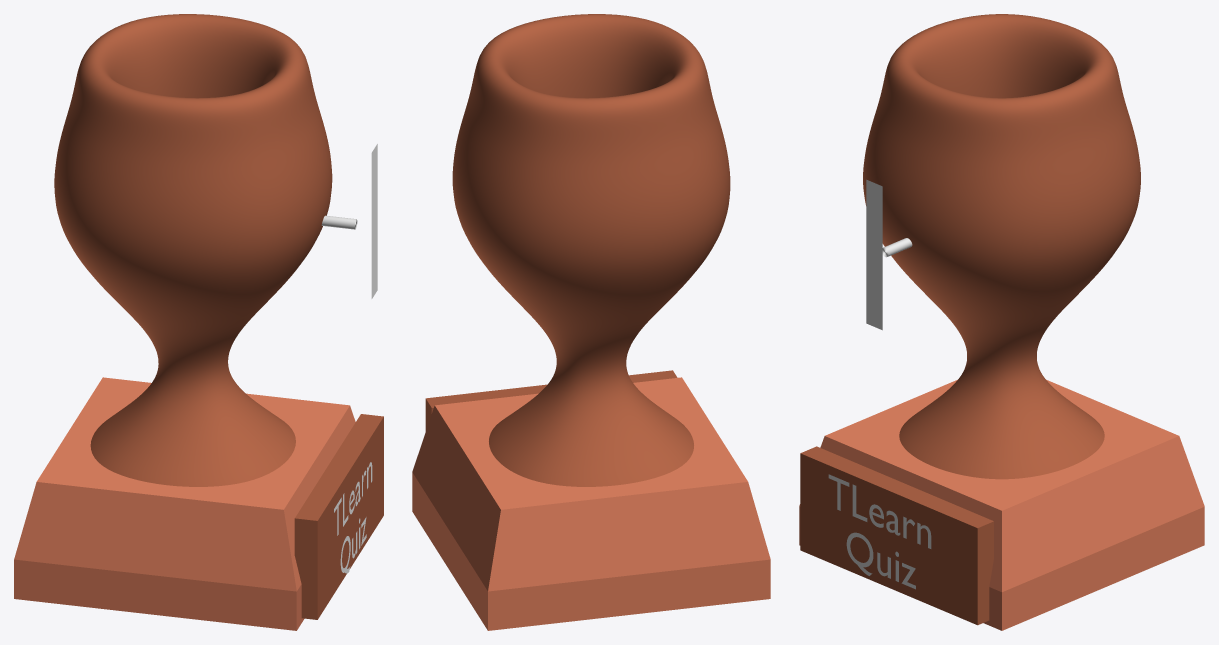
File: cup1.gltf
3 renders of one model, left to right at view 1: azimuth 30°, elevation 25°; view 2: azimuth 150°, elevation 25°; view 3: azimuth 270°, elevation 25°, orthographic. The views are drawn at different scales.
Visible parts, largest first — view 1: Cube, Cube.001, Cube.002, Text, Text.001; view 2: Cube, Cube.001, Cube.002; view 3: Cube, Cube.001, Cube.002, Text, Text.001.
Part boxes in pixels (x1,y1,x2,y2): Cube: [54, 14, 332, 486]; Cube.001: [14, 377, 355, 630]; Cube.002: [294, 414, 383, 619]; Text: [371, 144, 377, 298]; Text.001: [334, 462, 372, 573]; Cube: [452, 14, 730, 486]; Cube.001: [412, 377, 770, 630]; Cube.002: [425, 370, 677, 431]; Cube: [863, 14, 1140, 479]; Cube.001: [799, 379, 1204, 630]; Cube.002: [800, 446, 993, 625]; Text: [866, 179, 882, 330]; Text.001: [828, 474, 931, 589].
Bounding box in the file's own units: 3.23 × 4.29 × 3.23.
